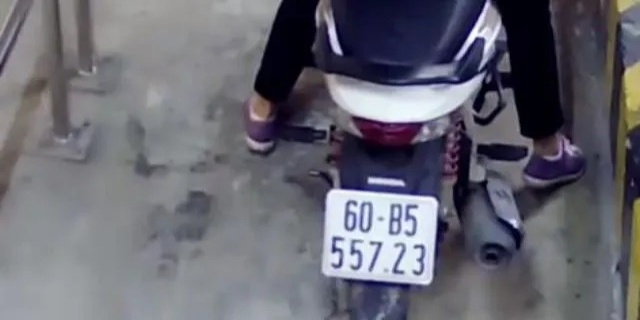bien_so: (322, 184, 435, 286)
